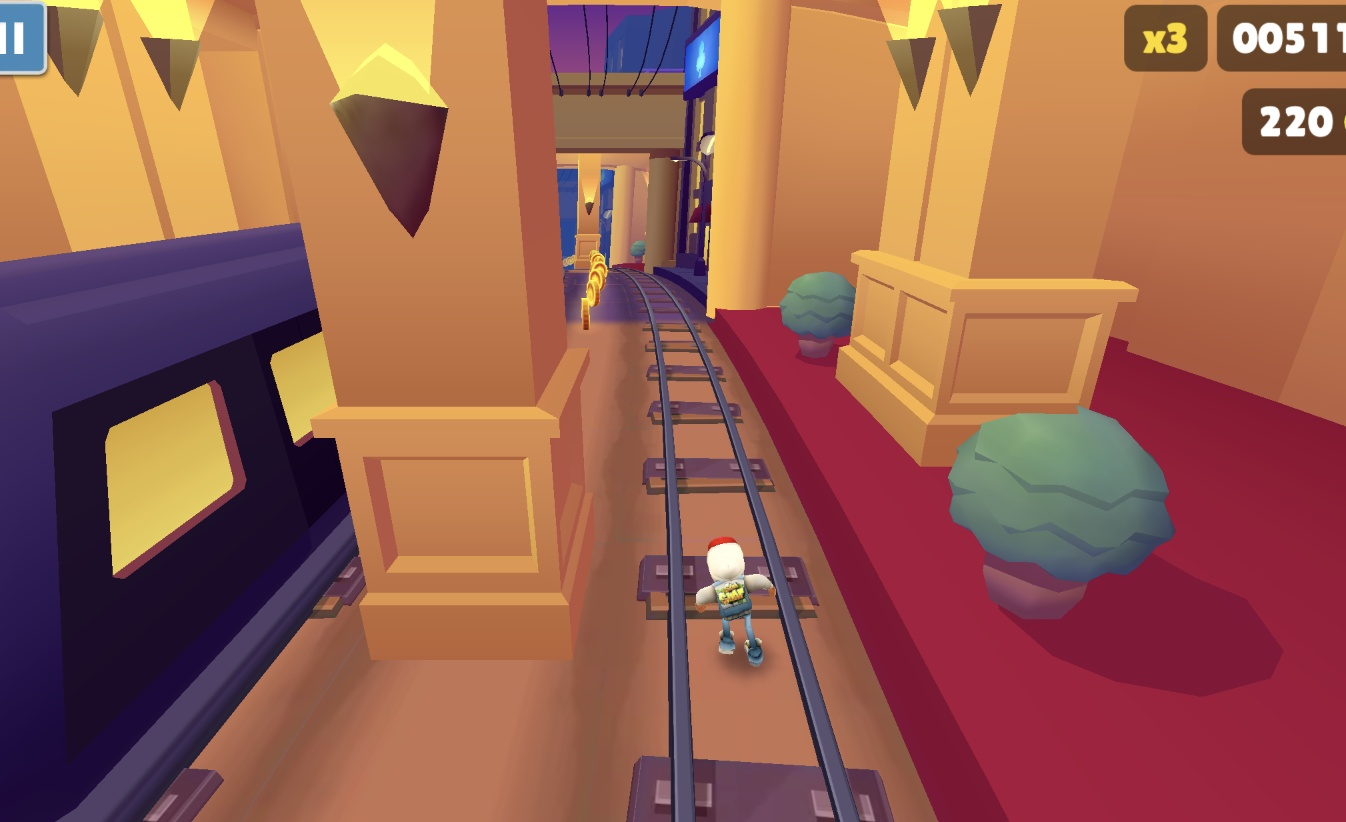pillar: (300, 0, 576, 660), (572, 162, 606, 270)
train: (0, 218, 380, 822)
